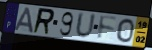9: (59, 11, 75, 37)
A: (13, 6, 35, 34)
F: (96, 15, 118, 42)
O: (116, 18, 135, 44)
R: (31, 7, 56, 36)
U: (74, 11, 97, 40)
